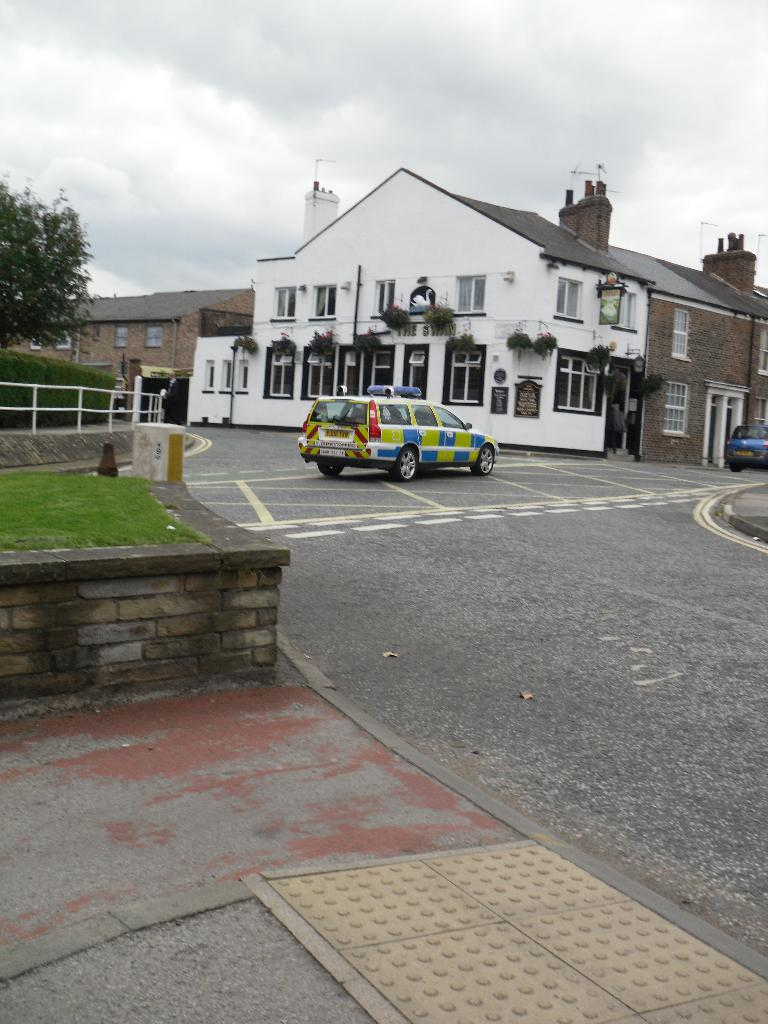Car: (295, 382, 503, 481), (723, 424, 767, 472)
